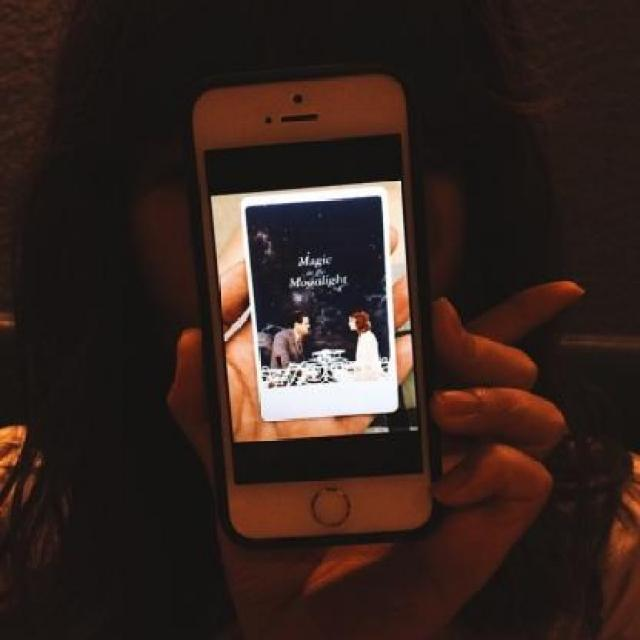phone: (185, 66, 447, 546)
